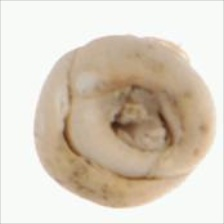L3: (64, 83, 184, 174)
L4: (33, 32, 215, 209)
